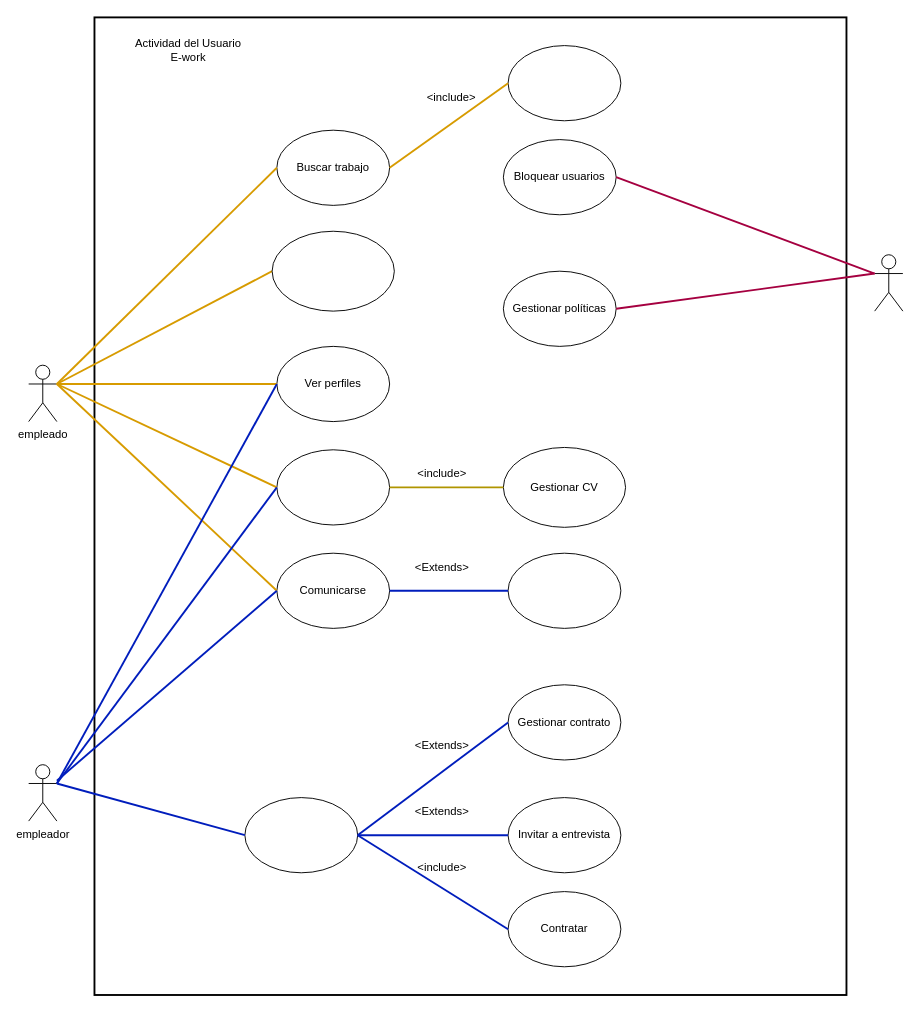
The diagram is 920 pixels wide and 1011 high, and some of its shapes have lost their labels. The box of each missing label's shape, as (x1, y1, x2, y2) in pixels:
admin: (874, 254, 903, 311)
Administrar perfil: (276, 449, 390, 525)
Crear contrato: (244, 797, 358, 873)
Gestionar contactos: (507, 552, 621, 628)
Inscribirse a trabajo: (507, 45, 621, 121)
Solicitar notificaciones: (271, 230, 394, 311)
